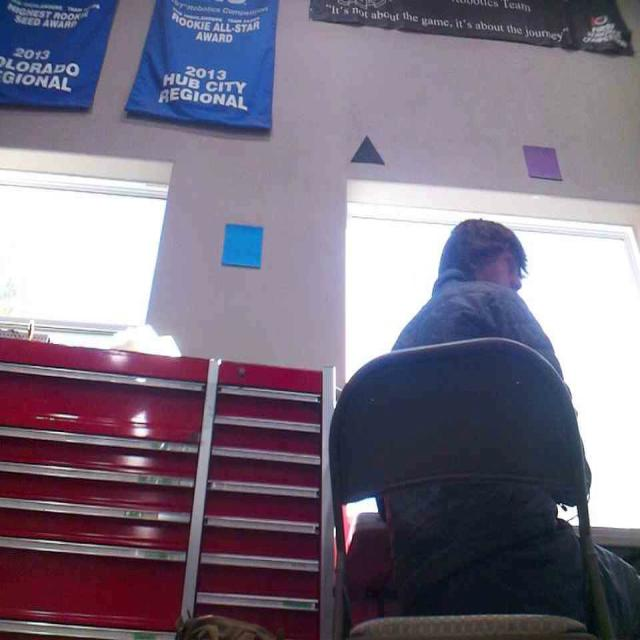square_blue: (219, 223, 264, 266)
square_purple: (522, 145, 564, 179)
triangle_black: (349, 133, 384, 161)
